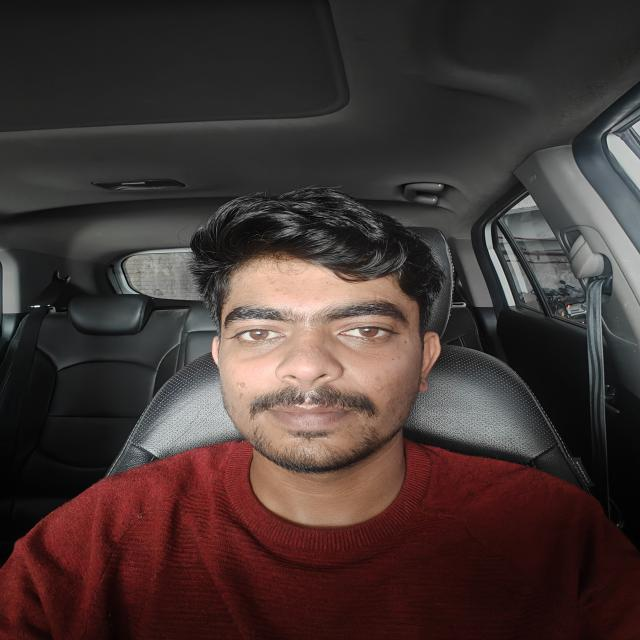no-seatbelt: (112, 425, 605, 640)
